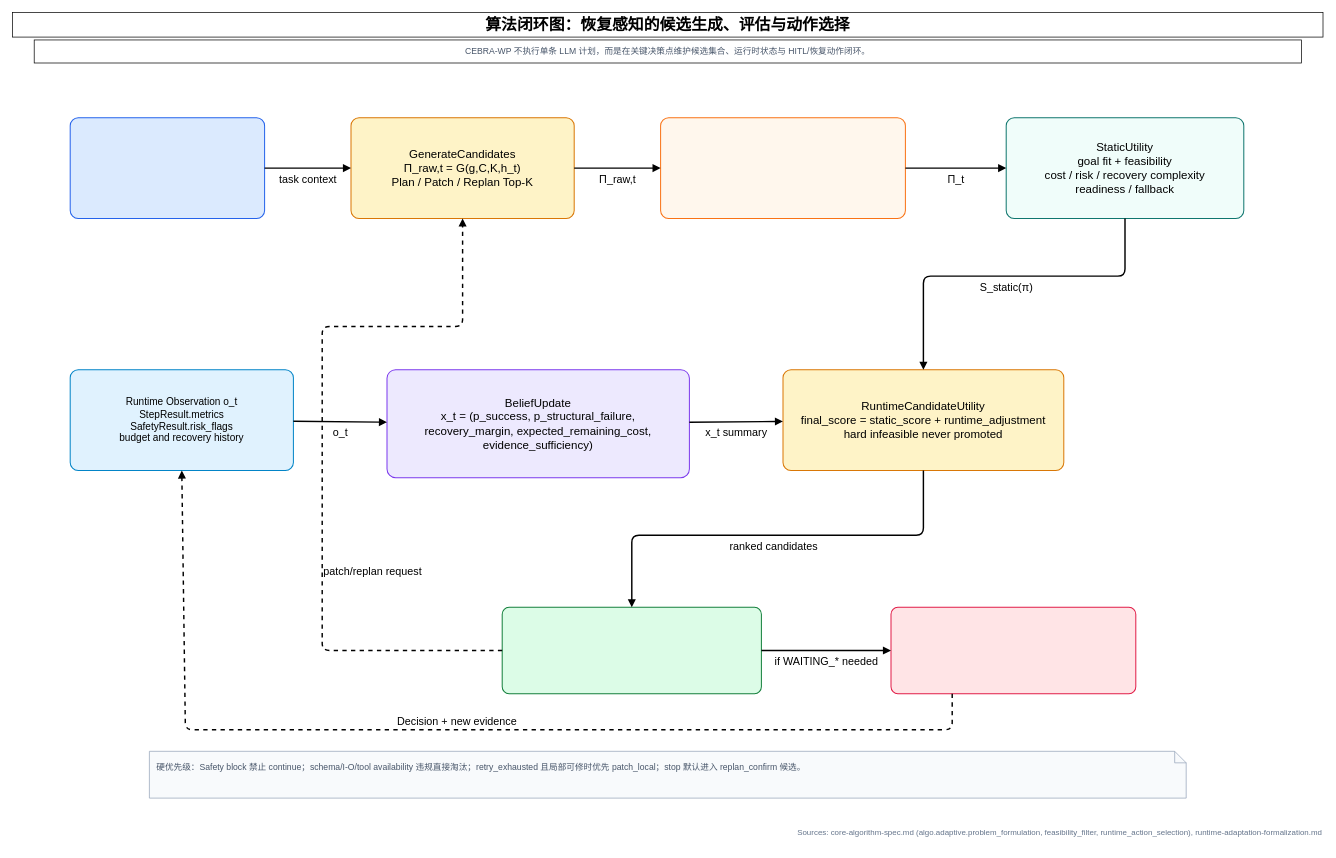
The diagram is 1336 pixels wide and 858 high, and some of its shapes have lost their labels. The shapes that lost their labels are listed below. From the top down, each one's box as (x1, y1, x2, y2) in pixels, then its label:
(69, 117, 265, 219): 形式化输入 g: design goal C: constraints K: ToolKG h_t: history
(660, 117, 906, 219): FeasibilityFilter F_tool ∧ F_schema ∧ F_io F_safety ∧ F_budget ∧ F_availability
(501, 606, 762, 694): RecoveryAwareActionSelection continue / patch_local suffix_replan / stop
(890, 606, 1136, 694): HITL Gate PendingAction + Decision when risk/cost/uncertainty requires review
